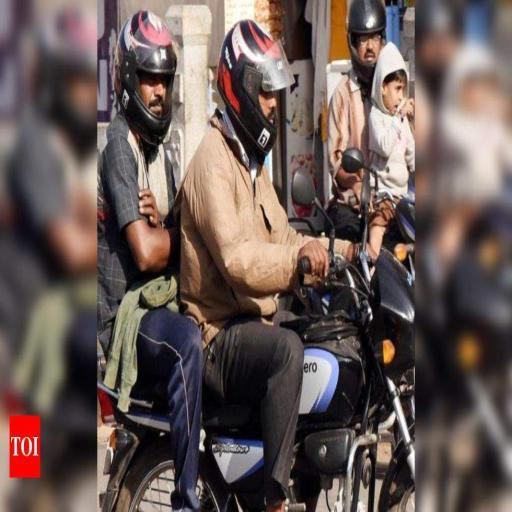helmet: (180, 12, 352, 502)
